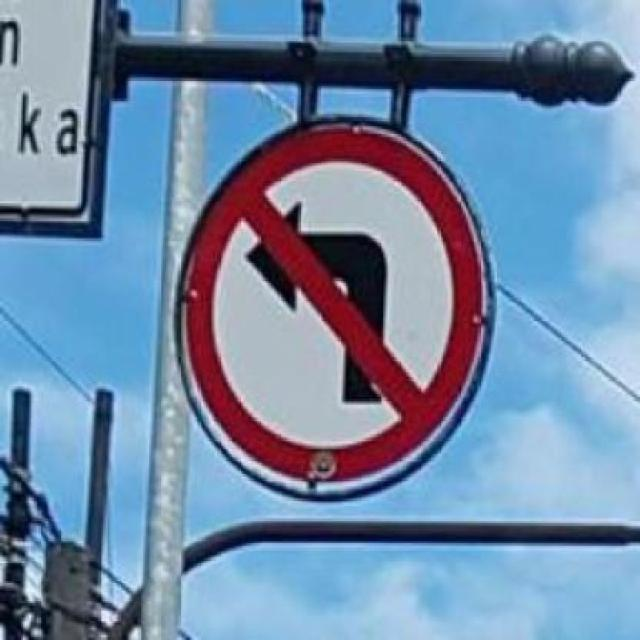left turn prohibited: (175, 112, 497, 495)
